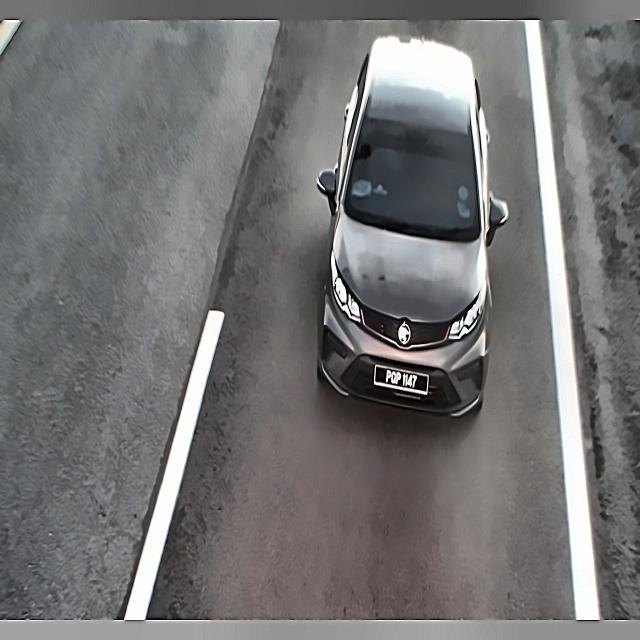car: (368, 361, 433, 398)
